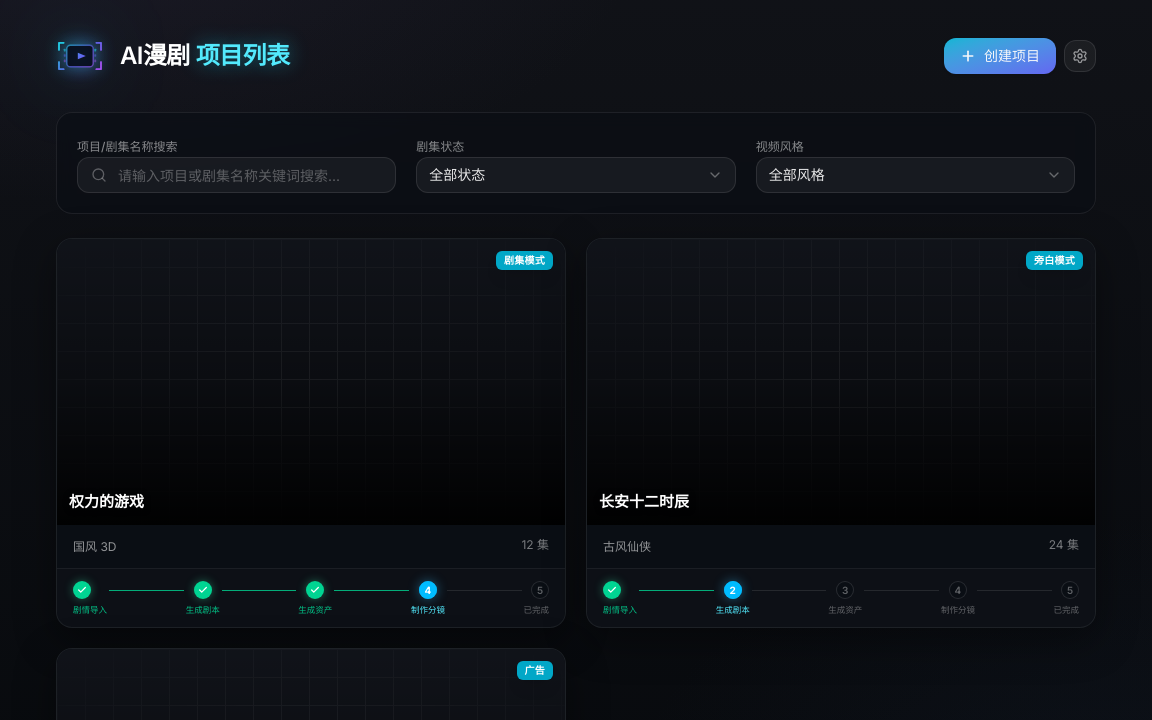
Test case: WorkspaceV2Page › filters projects automatically when selecting progress status
Check: the heading "权力的游戏" is shown, box left=69, top=491, right=144, bottom=513
Click the button with aria-label "剧集状态": (457, 174) left=416, top=157, right=736, bottom=193
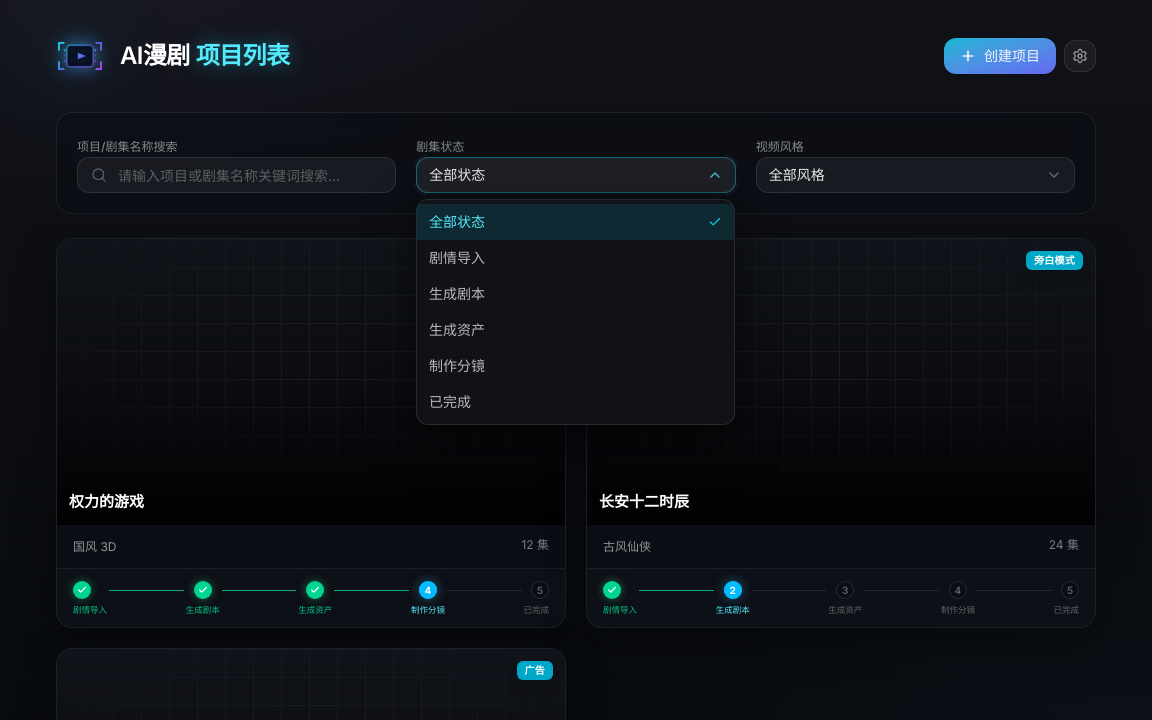
Click the option "生成剧本": (457, 294) left=417, top=276, right=734, bottom=312
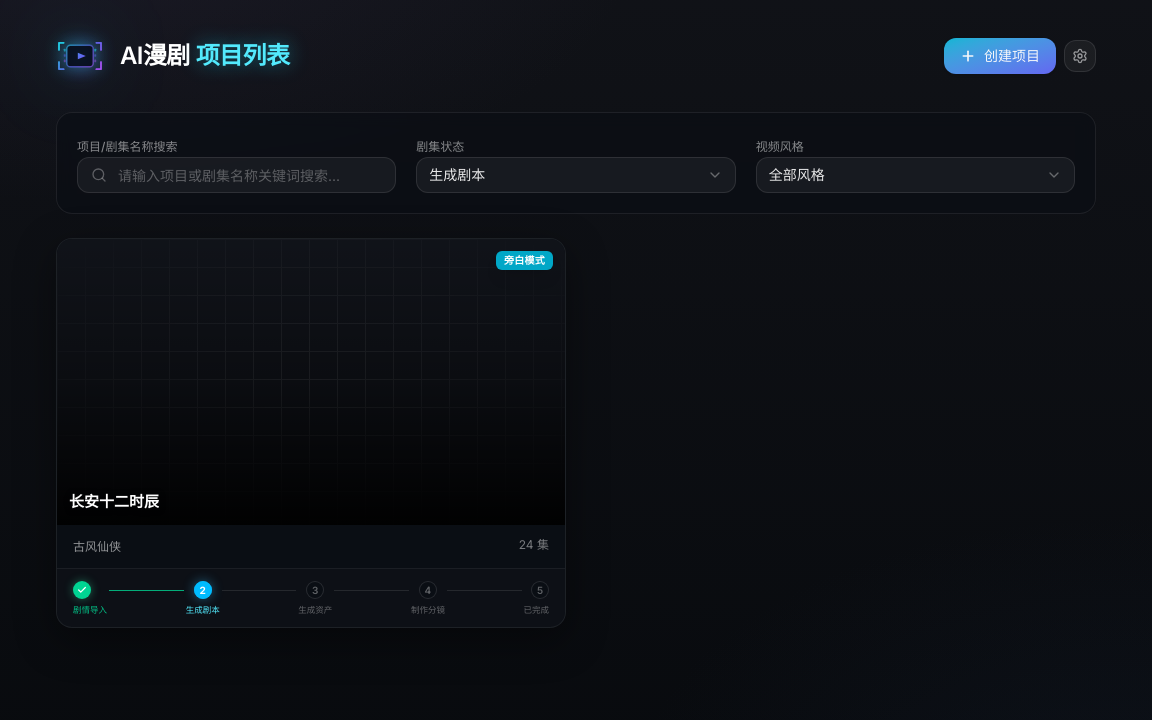
Check: the heading "长安十二时辰" is shown, box left=69, top=491, right=159, bottom=513
Check: the link "权力的游戏" is gone
